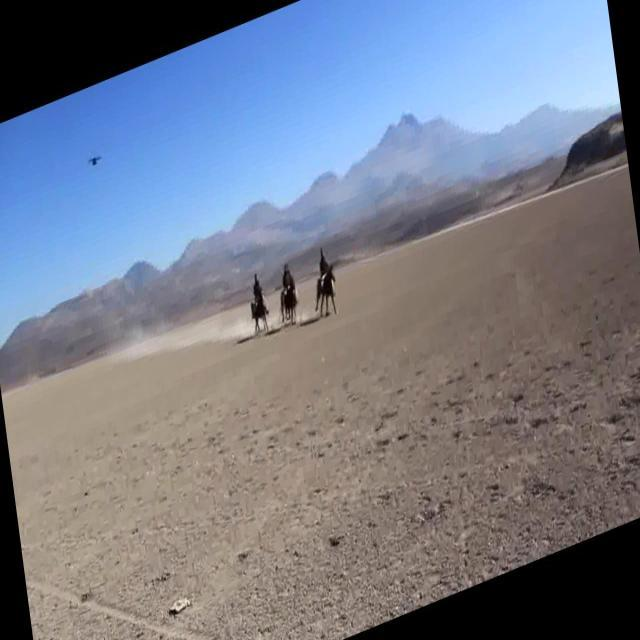drone: (85, 143, 103, 180)
